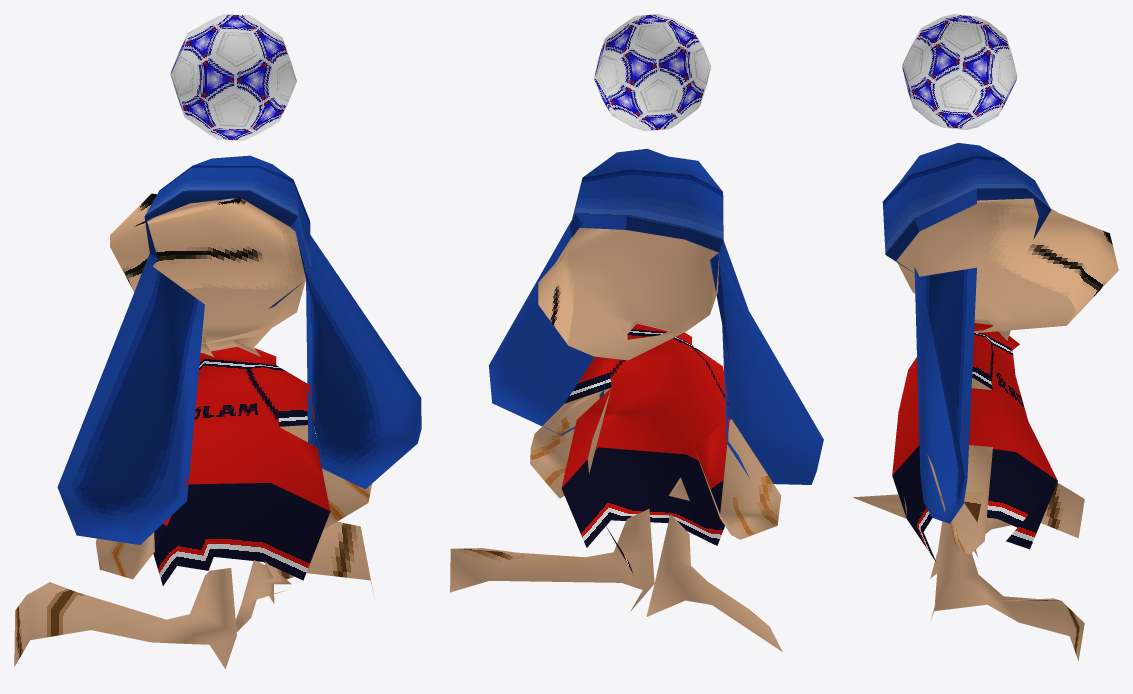
The model's file is ps2_save-icons_jikkyoujleagueperfectstriker3.glb.
3 renders of one model, left to right at view 1: azimuth 30°, elevation 25°; view 2: azimuth 150°, elevation 25°; view 3: azimuth 270°, elevation 25°, orthographic. The views are drawn at different scales.
Parts seen in each view (by area): view 1: WS2K00.ICO; view 2: WS2K00.ICO; view 3: WS2K00.ICO.
Part boxes in pixels (box(x1,y1,x2,y2)): WS2K00.ICO: box(14, 14, 421, 668); WS2K00.ICO: box(450, 14, 823, 651); WS2K00.ICO: box(853, 14, 1118, 661).
Size of the model in its own units: 2.81 by 4.75 by 1.98.
1 material, 1 textured.
